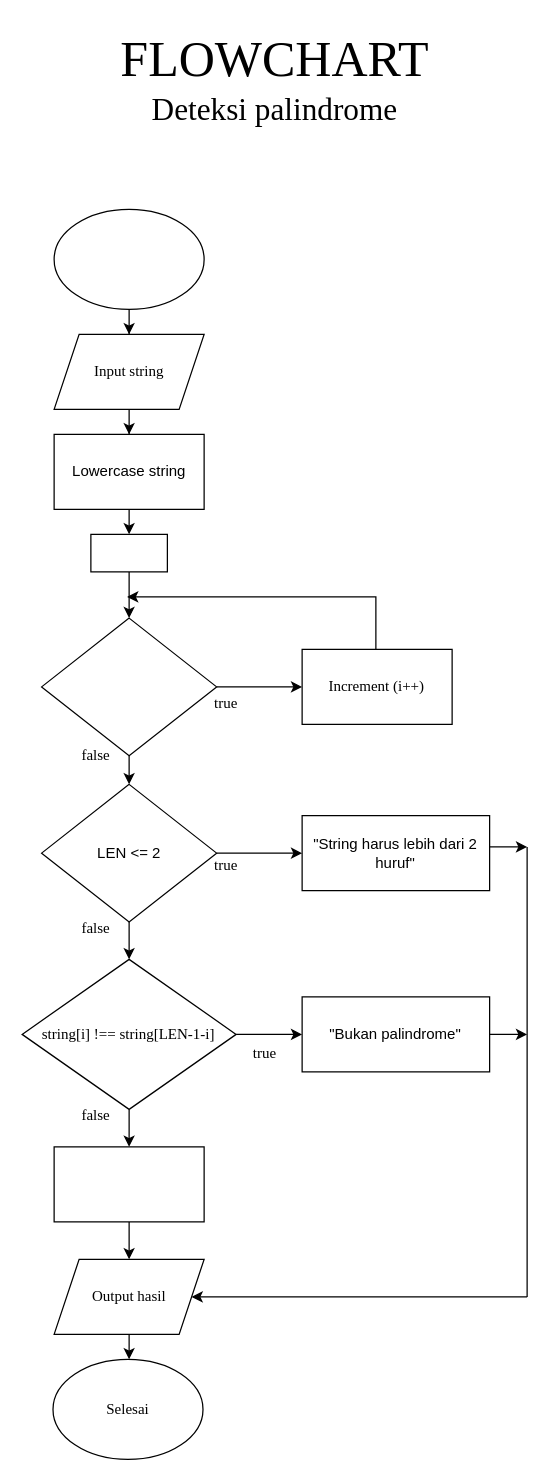
Some shapes in this 559 by 1481 pixel diagram are drawn without their labels. The box of each missing label's shape, as (x1, y1, x2, y2) in pixels:
"Palindrome": (53, 1146, 204, 1222)
i < LEN/2: (40, 617, 217, 756)
i = 0: (90, 533, 167, 572)
Mulai: (53, 208, 204, 309)
